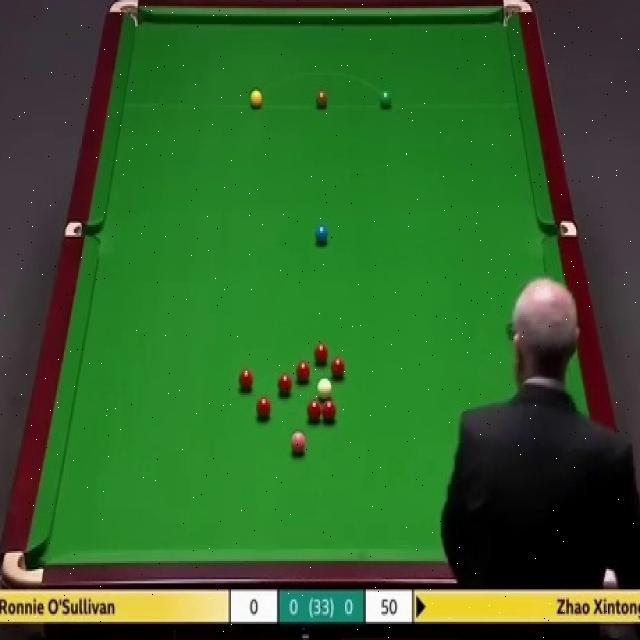blue-ball: (314, 224, 328, 246)
brown-ball: (315, 91, 328, 108)
green-ball: (380, 87, 394, 111)
pink-ball: (292, 430, 306, 454)
red-ball: (255, 396, 272, 422), (276, 373, 294, 395), (306, 399, 322, 423), (322, 400, 337, 424), (239, 369, 253, 392), (296, 361, 310, 383), (332, 358, 346, 380), (314, 343, 329, 362)
white-ball: (317, 377, 332, 398)
yellow-ball: (249, 88, 263, 109)
